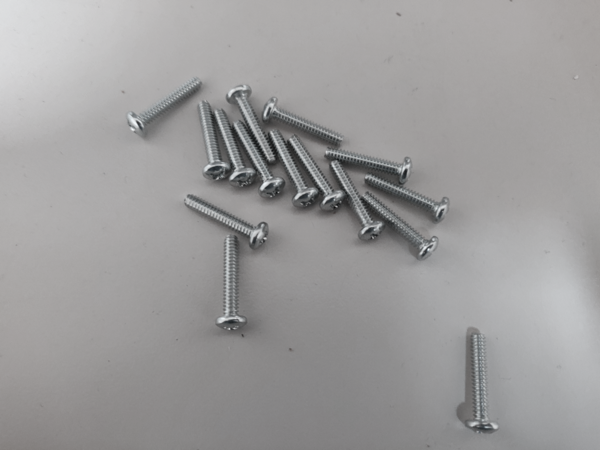longscrew: (363, 190, 440, 262), (126, 75, 204, 132), (362, 170, 449, 221), (184, 194, 268, 246), (267, 95, 348, 147), (233, 120, 285, 199), (330, 161, 384, 236), (291, 137, 345, 211), (229, 79, 277, 162), (269, 128, 317, 211), (324, 142, 416, 182), (212, 232, 246, 336), (467, 333, 499, 435), (216, 107, 254, 187), (191, 100, 227, 181)
